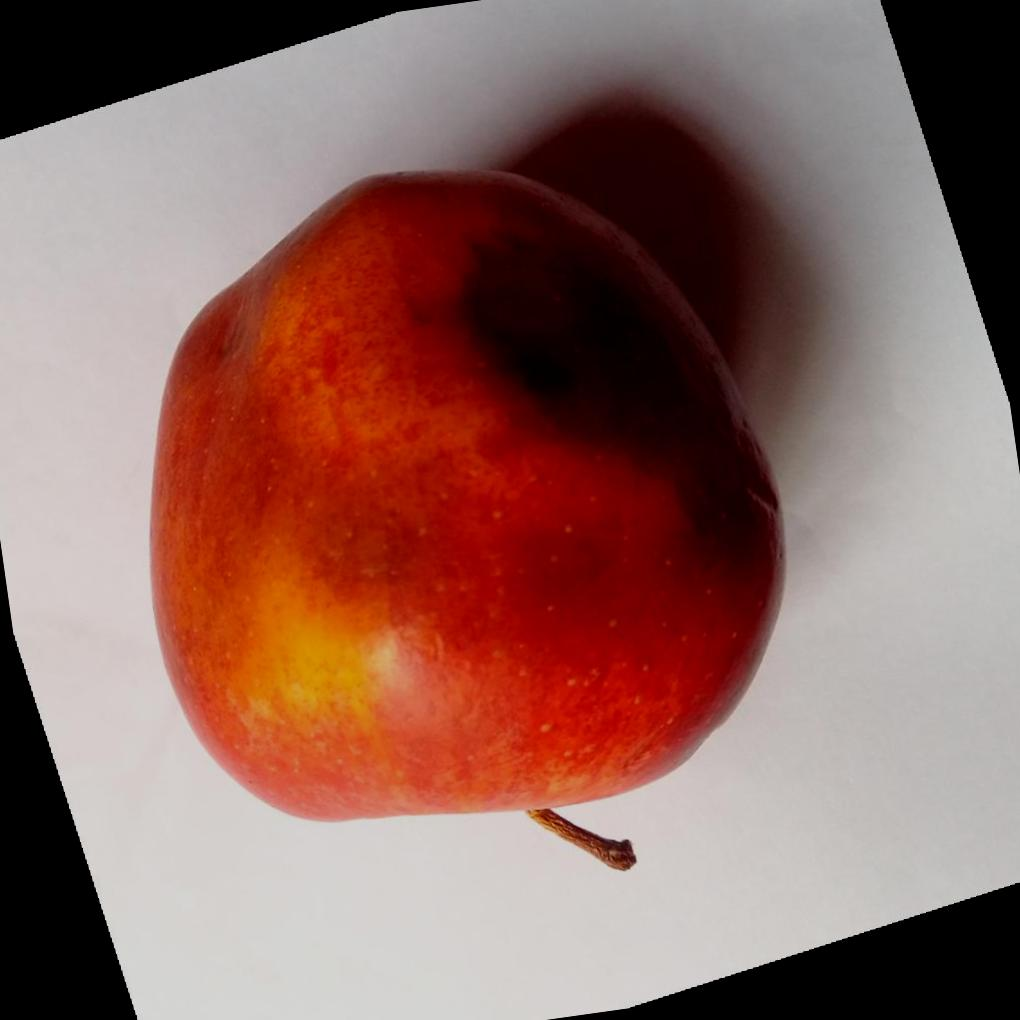FreshOrange: (145, 164, 786, 822)
